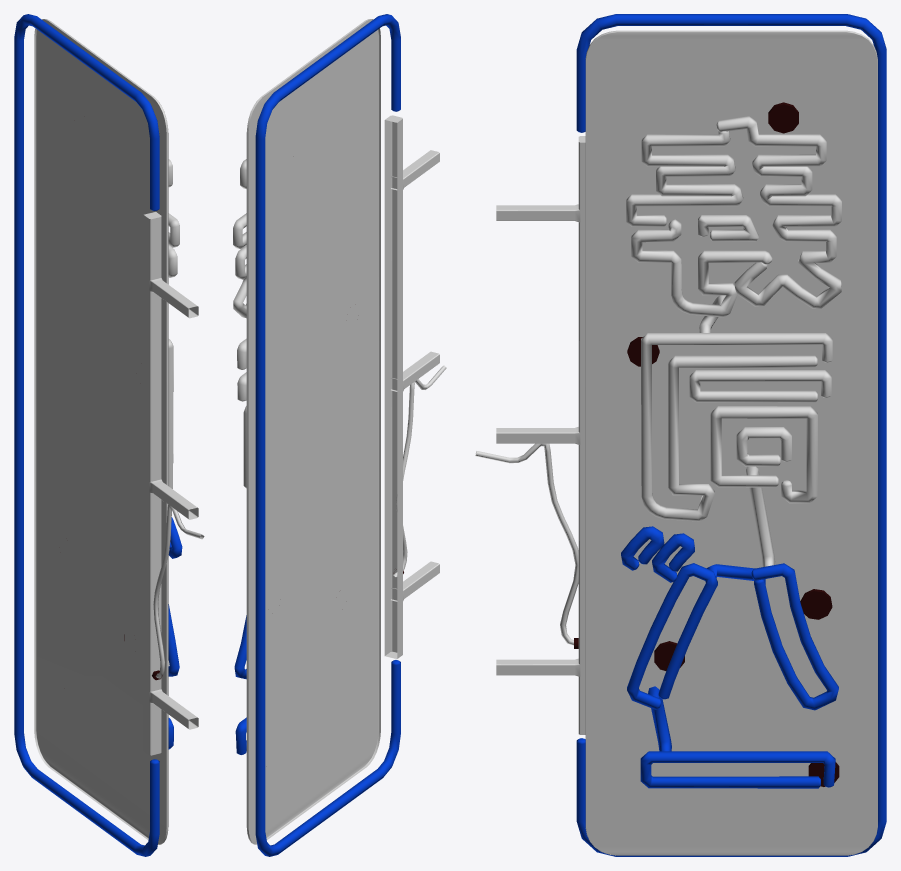
The model's file is Neon billboard (2).fbx.
The picture shows the model from 3 angles, left to right: view 1: azimuth 30°, elevation 25°; view 2: azimuth 150°, elevation 25°; view 3: azimuth 270°, elevation 25°; orthographic projection. The views are drawn at different scales.
Visible parts, largest first — view 1: sign_neon_small_vert, sign_neon_small_vert.003, sign_neon_small_vert.002, sign_neon_small_vert.001; view 2: sign_neon_small_vert, sign_neon_small_vert.001, sign_neon_small_vert.002, sign_neon_small_vert.003; view 3: sign_neon_small_vert, sign_neon_small_vert.001, sign_neon_small_vert.002, sign_neon_small_vert.003.
Part boxes in pixels (box(x1,y1,x2,y2)): sign_neon_small_vert: box(14, 14, 204, 856); sign_neon_small_vert.003: box(124, 517, 182, 749); sign_neon_small_vert.002: box(168, 339, 173, 488); sign_neon_small_vert.001: box(168, 159, 179, 277); sign_neon_small_vert: box(246, 14, 446, 856); sign_neon_small_vert.001: box(233, 159, 246, 318); sign_neon_small_vert.002: box(237, 338, 246, 488); sign_neon_small_vert.003: box(234, 615, 246, 754); sign_neon_small_vert: box(475, 14, 886, 856); sign_neon_small_vert.001: box(626, 116, 841, 317); sign_neon_small_vert.002: box(641, 295, 832, 566); sign_neon_small_vert.003: box(621, 526, 839, 788).
Bounding box in the file's own units: 7.72 × 103 × 45.62.
